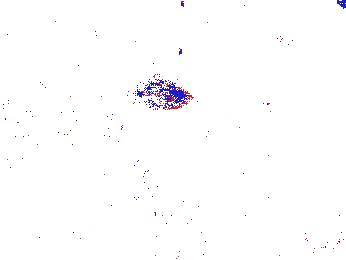X-ray fish: (129, 83, 192, 109)
red belly glassfish: (273, 32, 310, 49)
